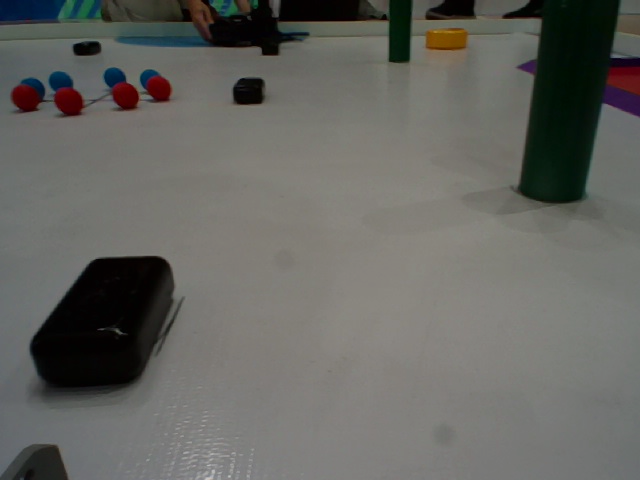black: (25, 253, 172, 402), (230, 75, 267, 105), (70, 37, 102, 55)
blue: (46, 71, 74, 97), (104, 67, 126, 91), (21, 78, 43, 100), (141, 70, 161, 90)
kuang: (514, 52, 640, 126)
red: (12, 86, 42, 115), (53, 86, 84, 113), (146, 77, 176, 104), (111, 81, 139, 109)
yellow: (425, 26, 474, 52)
zhuzi: (522, 1, 609, 206), (387, 1, 415, 63)
